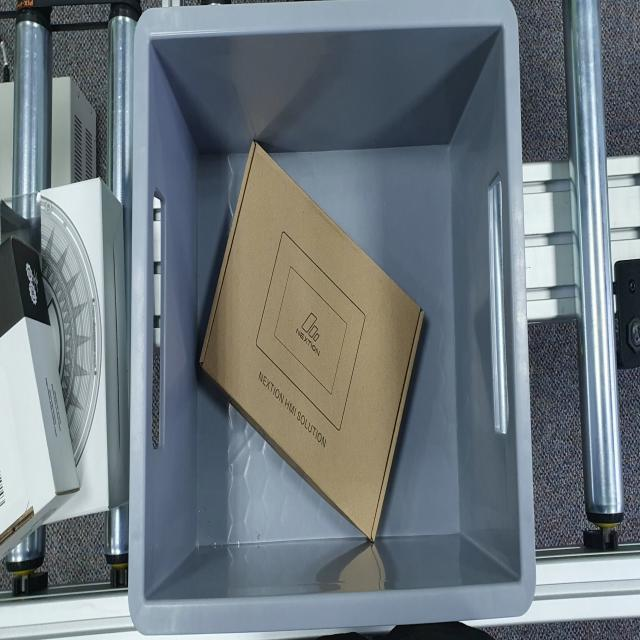box: (194, 138, 425, 540)
